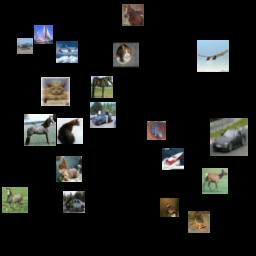airplane: (197, 40, 229, 72), (56, 41, 78, 63), (17, 38, 33, 54)
automobile: (210, 118, 248, 156), (90, 102, 116, 128)
bird: (160, 198, 179, 217)
cat: (41, 77, 70, 106), (57, 118, 83, 144), (56, 156, 82, 182), (113, 42, 139, 68)
deer: (202, 168, 228, 194)
frog: (188, 211, 210, 233), (147, 121, 166, 140)
ship: (162, 148, 184, 170), (34, 25, 53, 44)
truck: (63, 191, 85, 213)
